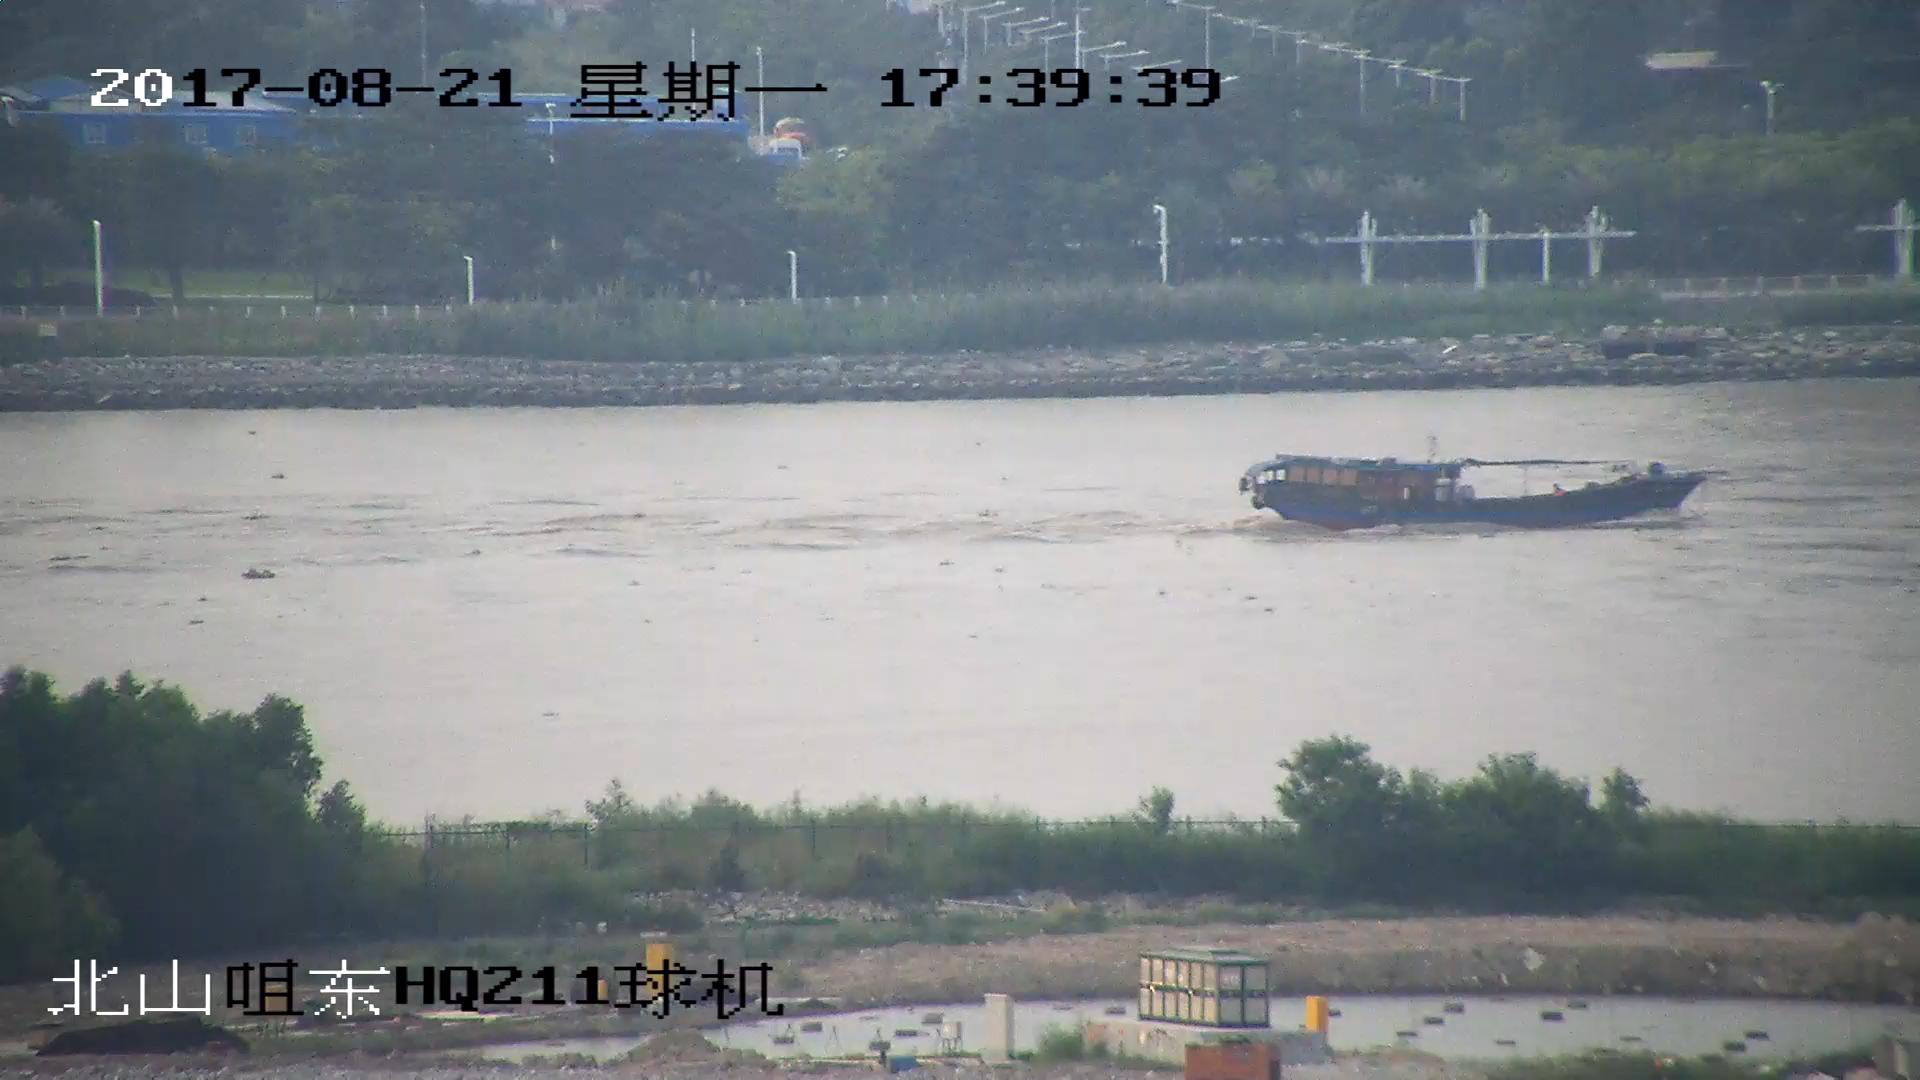fishing boat: (1240, 443, 1702, 529)
